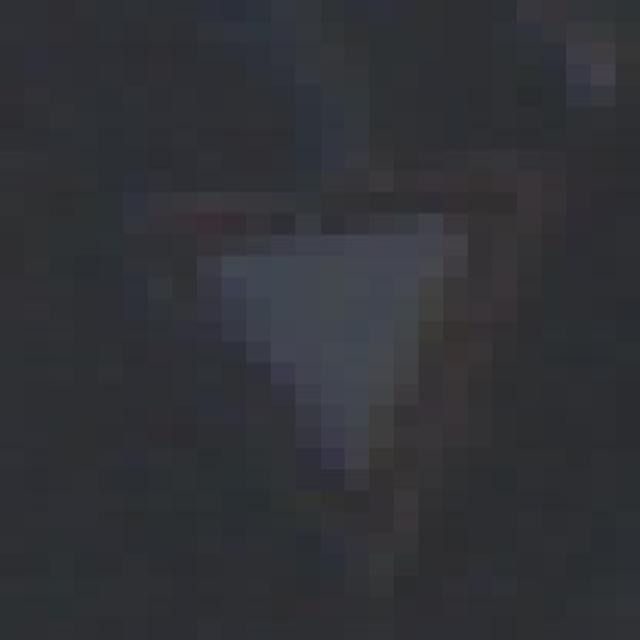Give Way: (70, 123, 588, 635)
